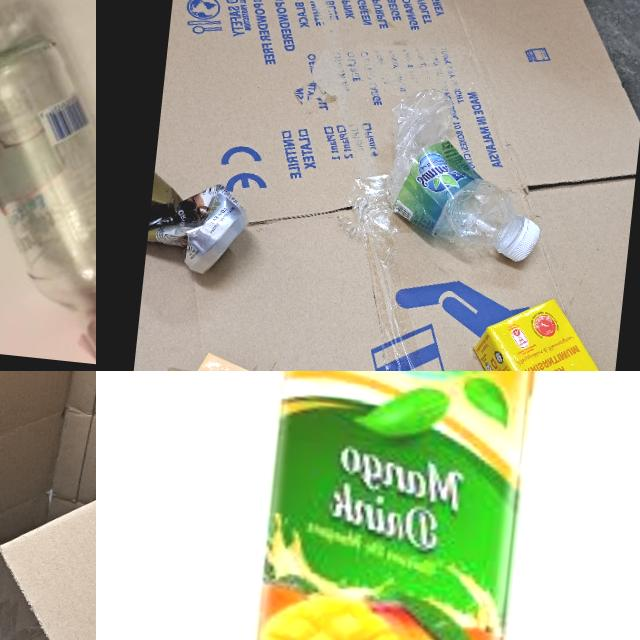caixinha: (229, 371, 545, 640), (457, 289, 622, 371)
garrafa de vidro: (0, 29, 96, 370)
garrafa plástica: (377, 86, 535, 252)
lata: (144, 168, 252, 278)
papelão: (118, 0, 640, 371), (0, 371, 96, 640)
tampa plástica: (504, 216, 542, 264)
